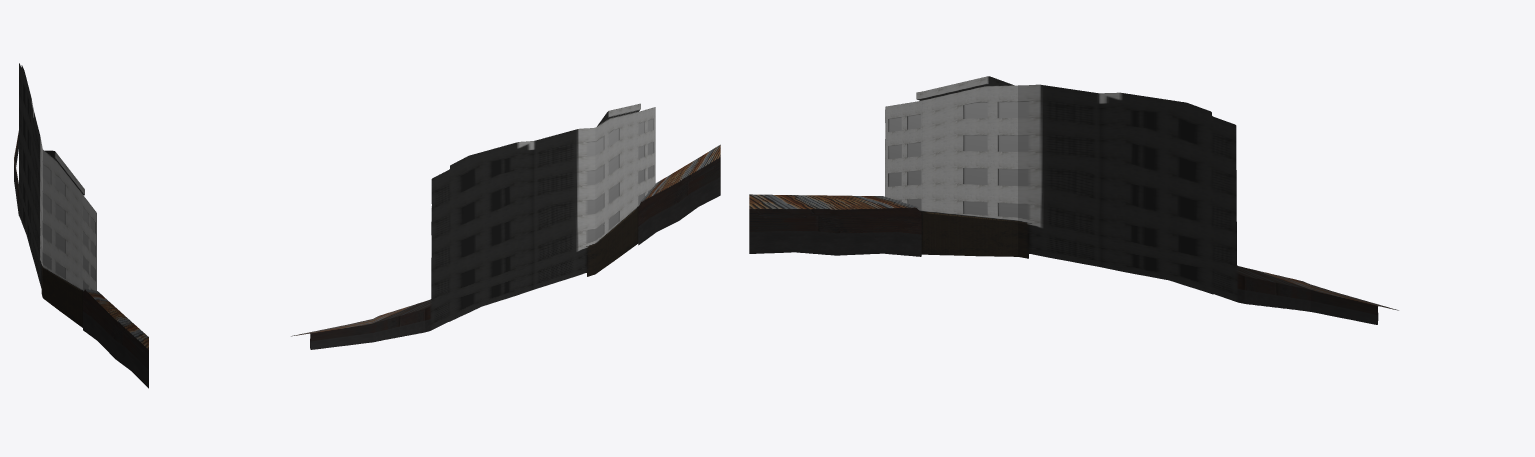
Rendered from FromBipulViewRight.fbx.
The picture shows the model from 3 angles, left to right: view 1: azimuth 30°, elevation 25°; view 2: azimuth 150°, elevation 25°; view 3: azimuth 270°, elevation 25°; orthographic projection. The views are drawn at different scales.
Parts seen in each view (by area): view 1: Plane.003; view 2: Plane.003; view 3: Plane.003.
Boxes of the visible parts, x1=… form: Plane.003: x1=14, y1=63, x2=148, y2=388; Plane.003: x1=291, y1=103, x2=720, y2=349; Plane.003: x1=749, y1=76, x2=1398, y2=324.
Size of the model in its own units: 1554 by 1941 by 4169.
